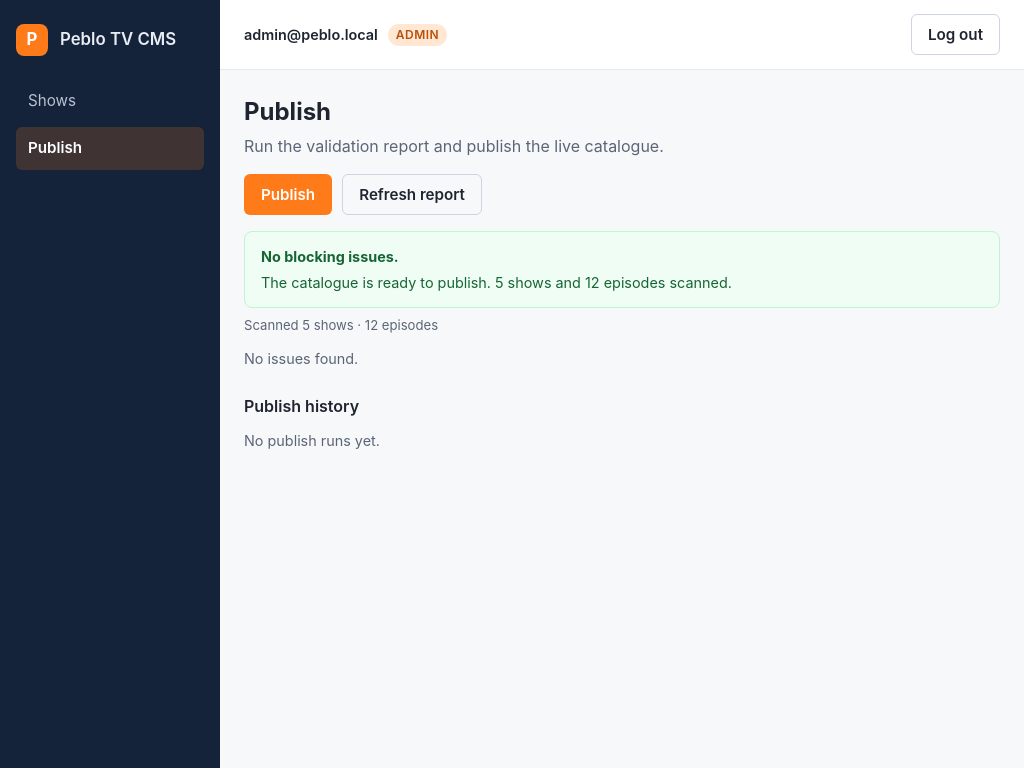
Test: PublishPage › shows success result after successful publish
Step 1. Click the button with test id "publish-button" → (288,194), box [244,174,332,215]
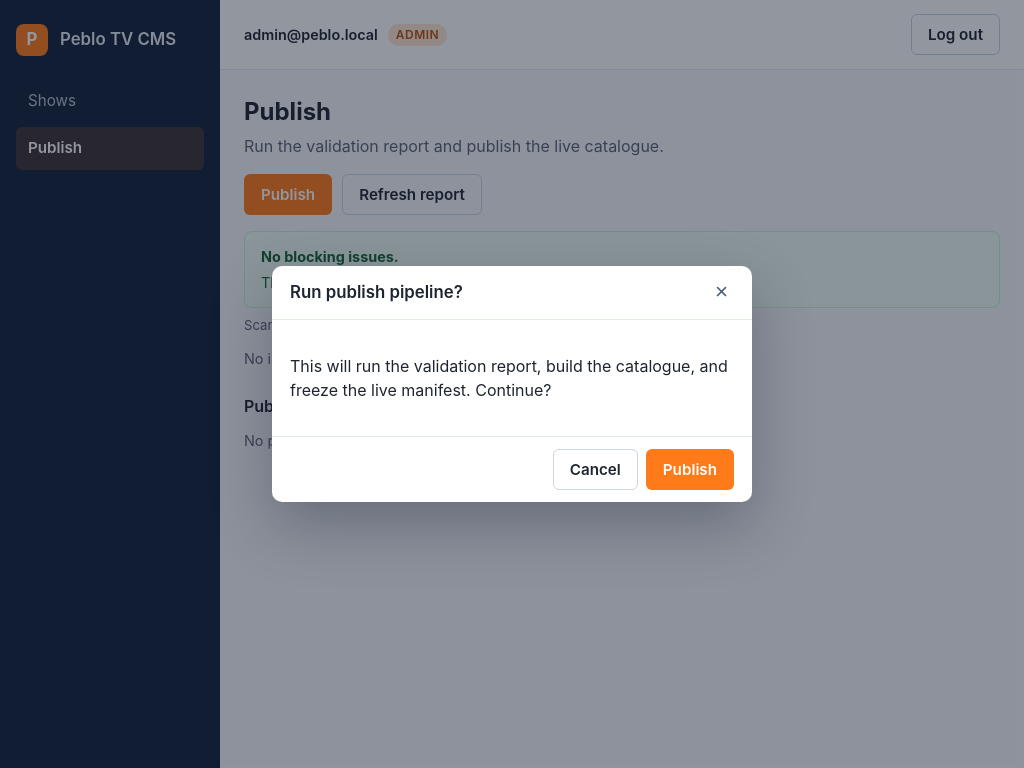
Now the element with test id "publish-confirm" is shown
Step 2. Click the button with test id "confirm-confirm" → (690,470), box [646,449,734,490]
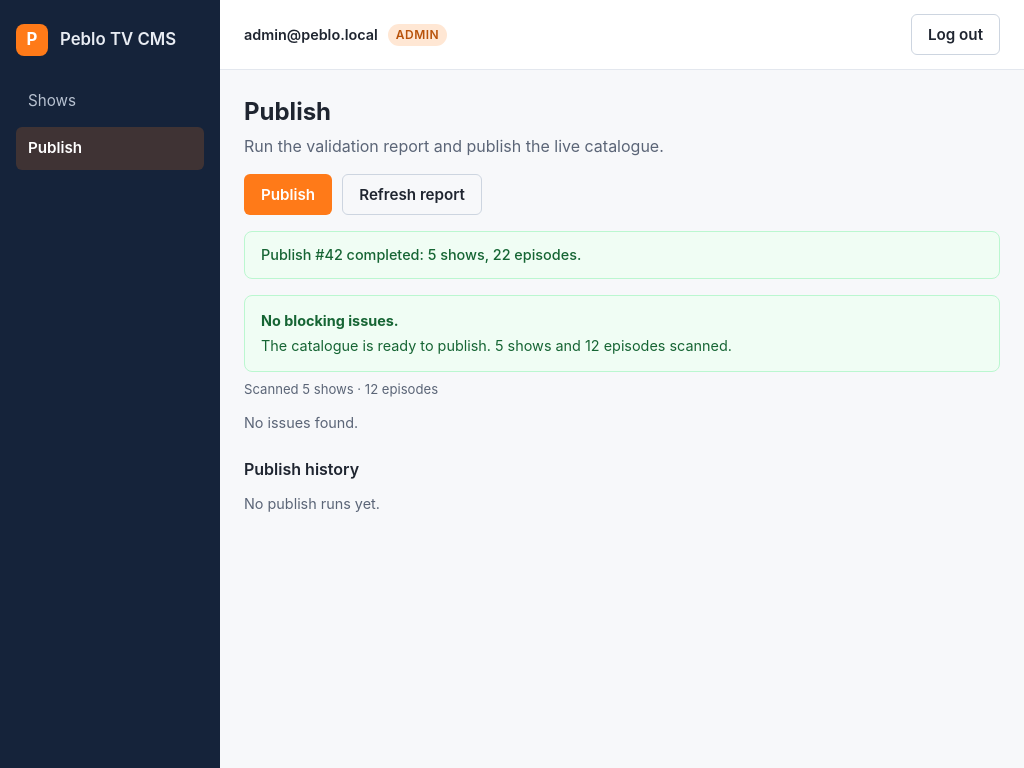
Now the text "Publish #42 completed: 5 shows, 22 episodes." is shown, box [244,231,1000,279]
